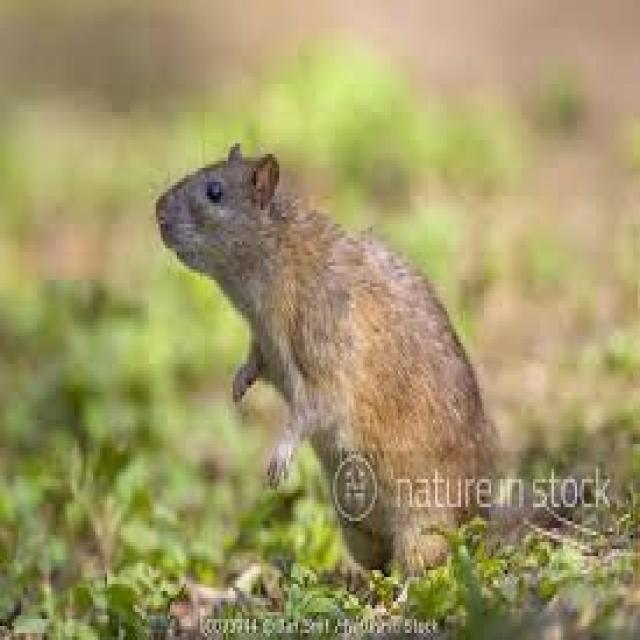Rat: (126, 74, 533, 572)
